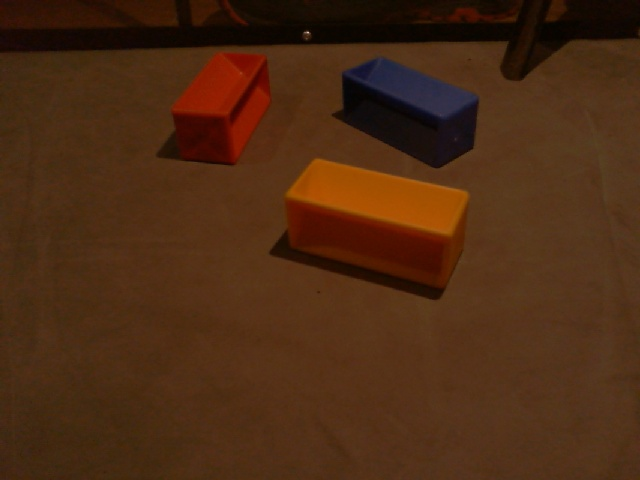BlueSample: (341, 55, 479, 169)
RedSample: (168, 51, 274, 169)
YellowSample: (281, 154, 474, 295)
